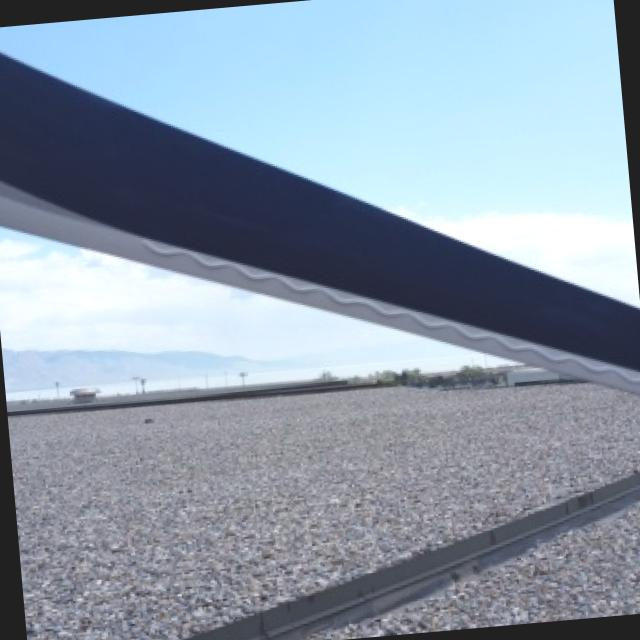healthy: (25, 583, 119, 640)
